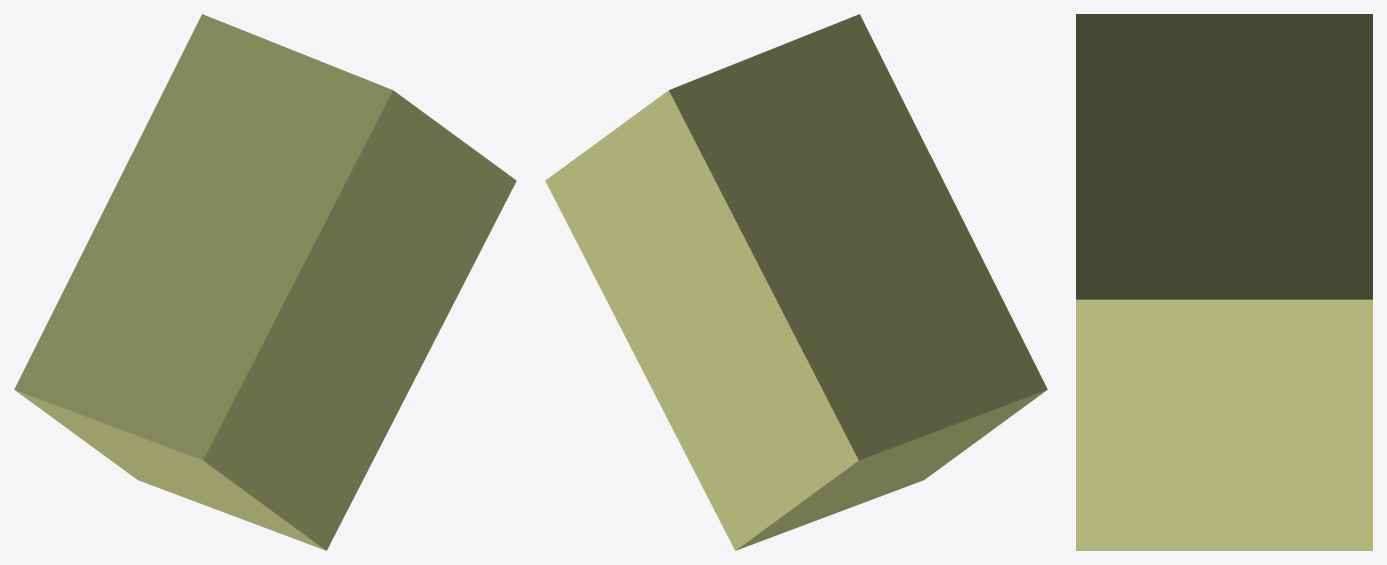
The picture shows the model from 3 angles, left to right: view 1: azimuth 30°, elevation 25°; view 2: azimuth 150°, elevation 25°; view 3: azimuth 270°, elevation 25°; orthographic projection. The views are drawn at different scales.
Parts seen in each view (by area): view 1: 0_1_1_3_3_1_0_2_0_3; view 2: 0_1_1_3_3_1_0_2_0_3; view 3: 0_1_1_3_3_1_0_2_0_3.
Part boxes in pixels (x1,y1,x2,y2): 0_1_1_3_3_1_0_2_0_3: (14, 14, 516, 550); 0_1_1_3_3_1_0_2_0_3: (545, 14, 1047, 550); 0_1_1_3_3_1_0_2_0_3: (1076, 14, 1372, 550).
Size of the model in its own units: 10.62 by 11.96 by 6.
